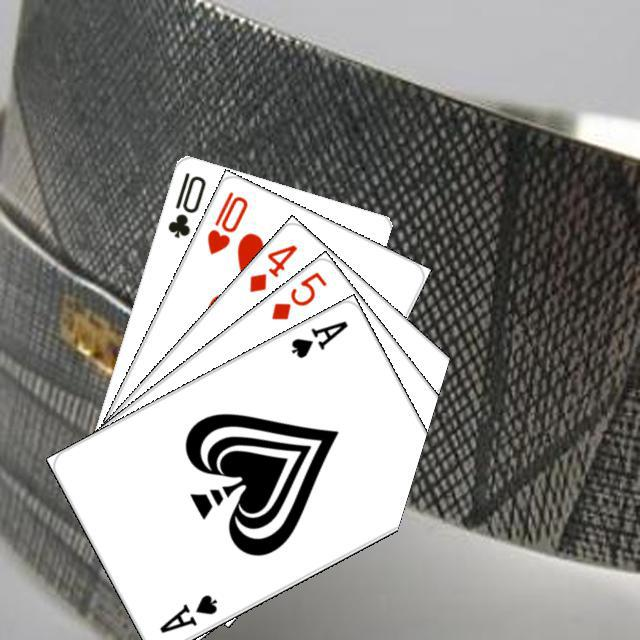10c: (162, 167, 208, 240)
10h: (202, 186, 250, 257)
4d: (244, 239, 299, 294)
5d: (266, 267, 329, 322)
As: (154, 589, 220, 635), (286, 315, 350, 361)
